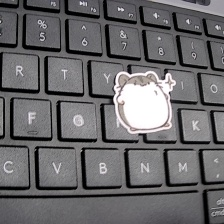mouse: (112, 70, 178, 134)
